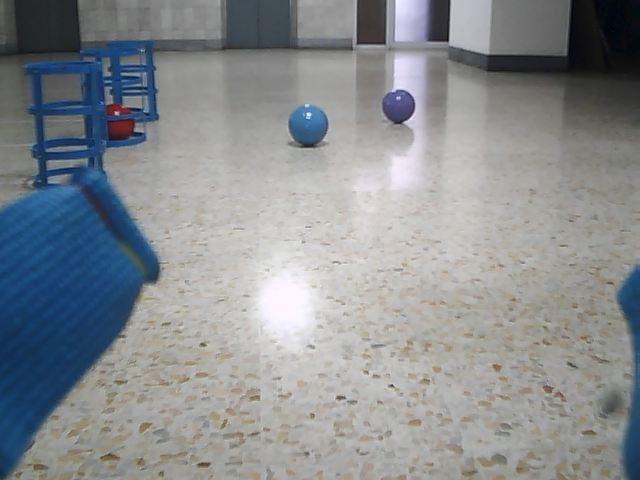Blue ball: (287, 104, 329, 146)
Cyro: (21, 58, 110, 187), (75, 46, 148, 147), (106, 38, 162, 123)
Purple ball: (381, 89, 416, 123)
Red ball: (102, 101, 141, 142)
